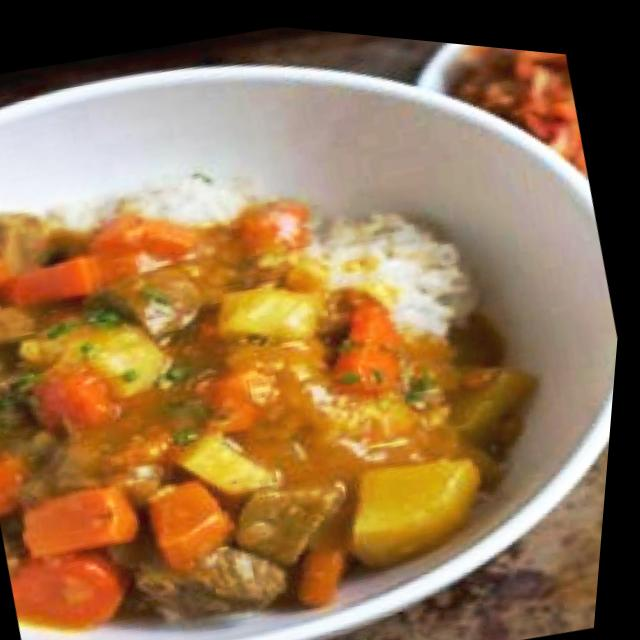curry: (232, 293, 551, 587), (0, 359, 308, 640), (0, 247, 392, 464), (0, 177, 308, 380)
rice: (304, 189, 490, 363), (139, 159, 253, 239)
